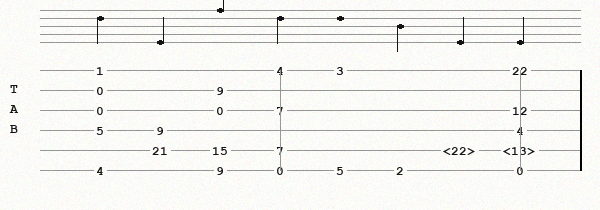0: (96, 104, 108, 116), (96, 84, 108, 96), (216, 104, 228, 116), (276, 164, 288, 176), (516, 164, 528, 176)
1: (96, 64, 108, 76)
12: (512, 104, 532, 116)
15: (212, 144, 232, 156)
2: (396, 164, 408, 176)
21: (152, 144, 172, 156)
22: (512, 64, 532, 76)
3: (336, 64, 348, 76)
4: (96, 164, 108, 176), (276, 64, 288, 76), (516, 124, 528, 136)
5: (96, 124, 108, 136), (336, 164, 348, 176)
7: (276, 104, 288, 116), (276, 144, 288, 156)
9: (156, 124, 168, 136), (216, 84, 228, 96), (216, 164, 228, 176)
harmonic: (443, 144, 480, 156), (503, 144, 540, 156)
